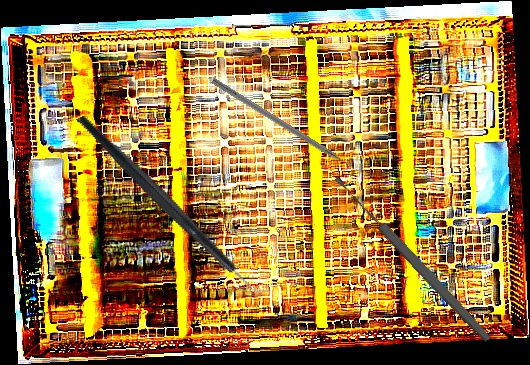Chopper: (76, 74, 274, 335)
Hook Surgical: (210, 77, 361, 177)
Surgical Spoon: (332, 173, 493, 344)
